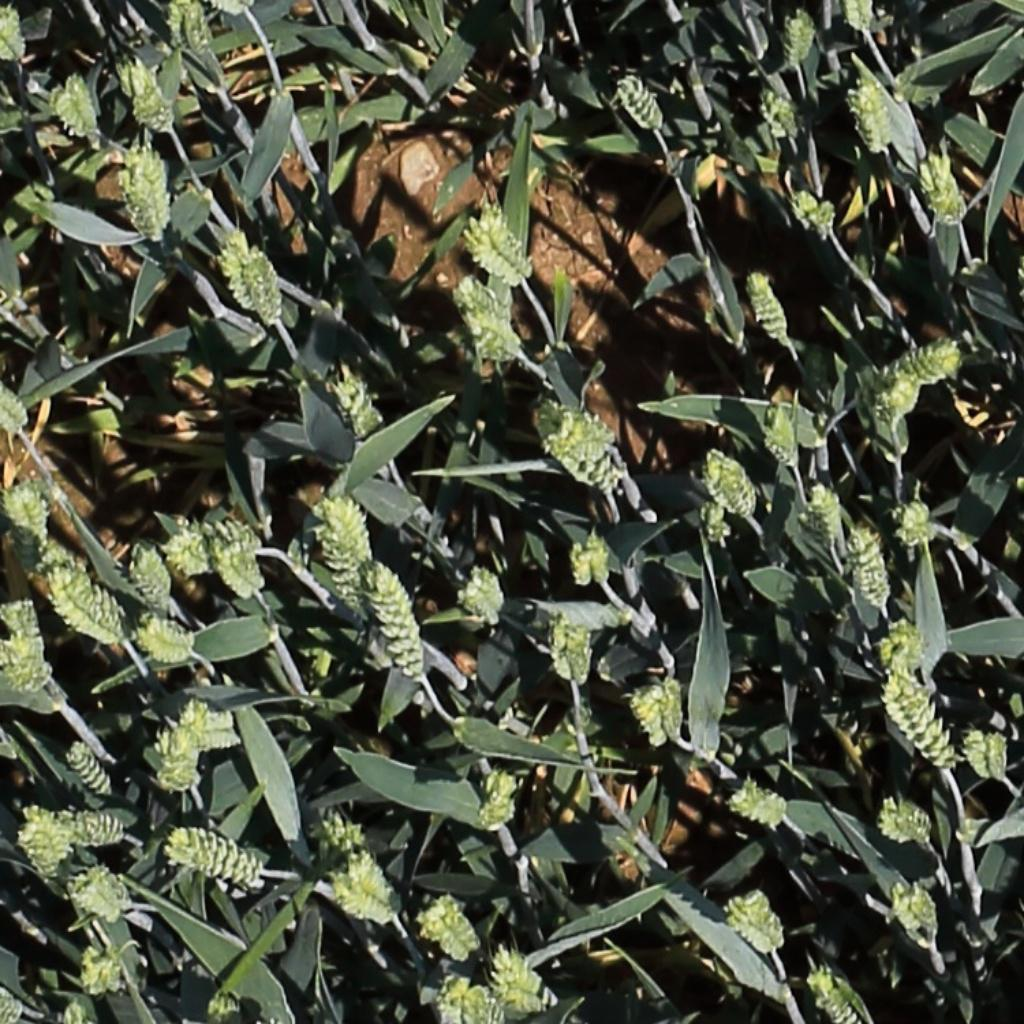0-0: (447, 278, 527, 367), (888, 671, 960, 767), (711, 884, 800, 957), (45, 560, 123, 643), (371, 563, 428, 675), (841, 75, 907, 168), (327, 498, 375, 621), (21, 523, 101, 595), (535, 402, 620, 468), (917, 153, 980, 236), (333, 848, 401, 923), (173, 520, 256, 575), (72, 940, 152, 997), (468, 216, 534, 282), (116, 131, 165, 218), (487, 949, 558, 1009), (303, 485, 365, 553), (876, 349, 975, 391), (896, 871, 942, 961), (168, 829, 264, 872), (228, 242, 279, 322), (121, 49, 177, 120), (335, 352, 384, 429), (426, 978, 507, 1024), (311, 810, 378, 865), (850, 521, 893, 605), (808, 968, 872, 1024), (704, 455, 759, 519), (56, 64, 101, 137), (171, 710, 245, 754), (424, 905, 479, 964), (567, 439, 627, 493), (215, 543, 265, 607), (155, 727, 202, 794), (4, 640, 47, 713), (30, 814, 125, 847), (788, 182, 843, 239), (463, 775, 521, 829), (135, 616, 199, 664), (15, 478, 47, 574), (877, 623, 927, 684), (22, 814, 71, 876), (554, 612, 591, 693), (615, 66, 669, 121), (65, 740, 117, 797), (635, 685, 682, 748), (803, 481, 844, 552), (730, 778, 785, 829), (867, 372, 924, 421), (743, 272, 787, 335), (962, 720, 1008, 779), (764, 397, 803, 466), (78, 862, 126, 916), (759, 73, 806, 128), (881, 793, 924, 853), (132, 542, 173, 602), (166, 0, 213, 51), (570, 530, 614, 584), (0, 594, 42, 650), (461, 570, 506, 621), (890, 492, 926, 553), (787, 4, 815, 66), (700, 491, 731, 547), (1, 382, 28, 436), (847, 0, 877, 38), (0, 9, 24, 54), (0, 988, 28, 1024), (209, 0, 262, 19)
